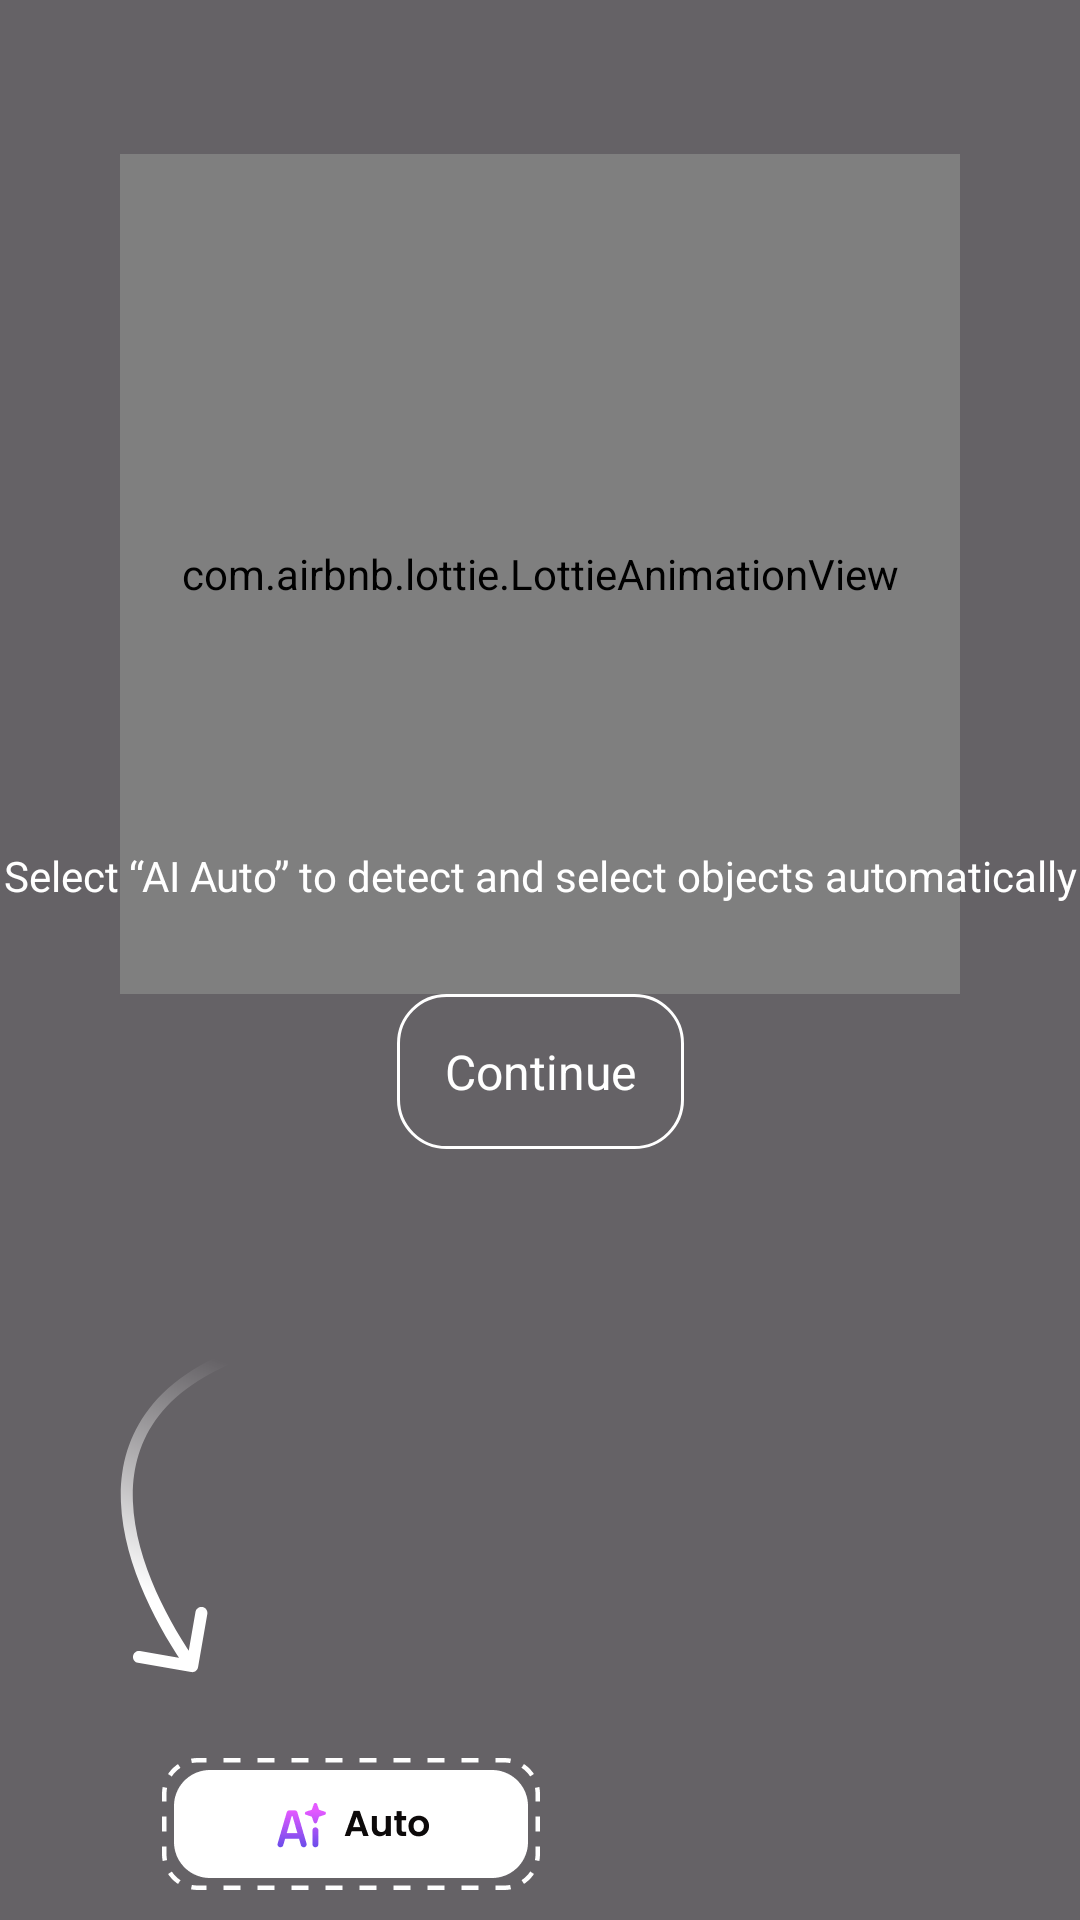

Icons on this 1080w x 1920h Android screen, each with the point to tap as (x,y):
arrow turorial right: (164,1528)
